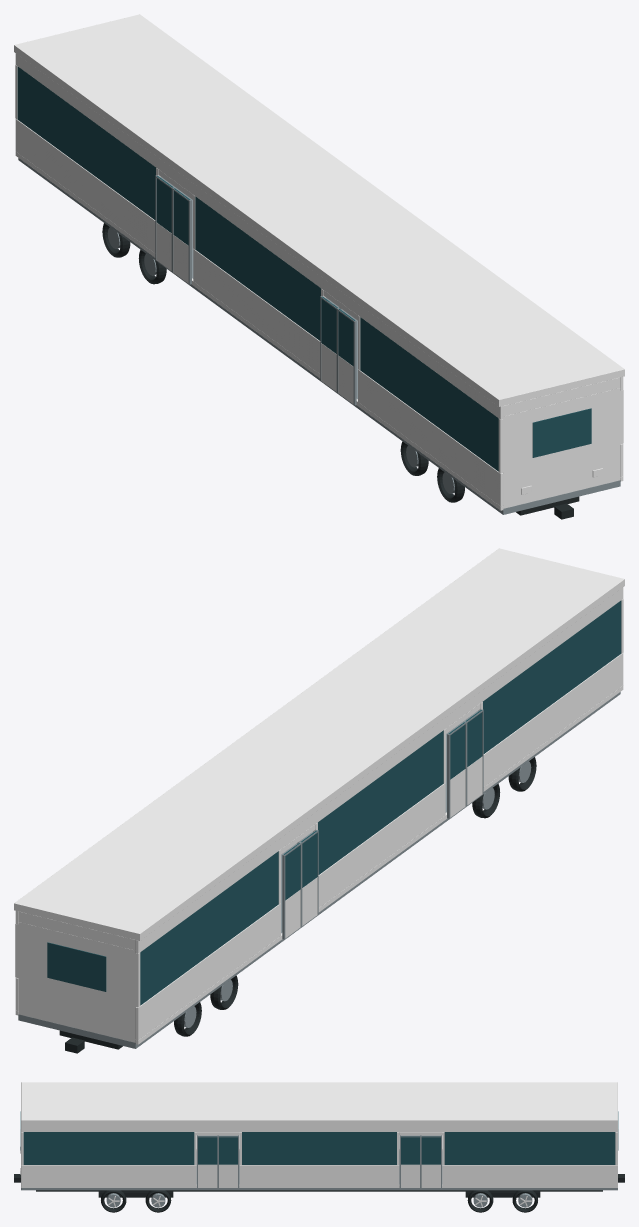
Rendered from mrt-train-carriage.glb.
3 views of the same model, one above another, from view 1: azimuth 30°, elevation 25°; view 2: azimuth 150°, elevation 25°; view 3: azimuth 270°, elevation 25° (orthographic). The views are drawn at different scales.
Visible parts, largest first — view 1: Roof, End_Wall, Window_Band, Window_Band.002, Window_Band.001, Upper_Side_Rail, Lower_Wall, Lower_Wall.002, Lower_Wall.001, Carriage_Floor, End_Window, Lower_Side_Rail (+5 smaller); view 2: Roof, End_Wall.001, Window_Band.002, Window_Band, Window_Band.001, Upper_Side_Rail, Lower_Wall.002, Lower_Wall, Lower_Wall.001, Carriage_Floor, End_Window.001, Lower_Side_Rail (+5 smaller); view 3: Roof, Window_Band.003, Window_Band.005, Window_Band.004, Upper_Side_Rail.001, Lower_Wall.003, Lower_Wall.005, Lower_Wall.004, Carriage_Floor, Lower_Side_Rail.001, Centre_Underframe, Door_Pane_RightFront (+13 smaller).
Boxes of the visible parts, x1=… form: Roof: x1=14, y1=14, x2=624, y2=406; End_Wall: x1=503, y1=388, x2=620, y2=508; Window_Band: x1=360, y1=317, x2=498, y2=471; Window_Band.002: x1=17, y1=66, x2=155, y2=219; Window_Band.001: x1=195, y1=196, x2=320, y2=340; Upper_Side_Rail: x1=15, y1=53, x2=503, y2=419; Lower_Wall: x1=358, y1=369, x2=503, y2=506; Lower_Wall.002: x1=15, y1=119, x2=155, y2=253; Lower_Wall.001: x1=193, y1=249, x2=320, y2=373; Carriage_Floor: x1=18, y1=158, x2=620, y2=514; End_Window: x1=532, y1=408, x2=591, y2=457; Lower_Side_Rail: x1=15, y1=152, x2=503, y2=510; Roof: x1=14, y1=548, x2=624, y2=940; End_Wall.001: x1=18, y1=922, x2=135, y2=1042; Window_Band.002: x1=140, y1=851, x2=278, y2=1005; Window_Band: x1=483, y1=600, x2=621, y2=753; Window_Band.001: x1=318, y1=730, x2=443, y2=874; Upper_Side_Rail: x1=135, y1=587, x2=623, y2=953; Lower_Wall.002: x1=135, y1=903, x2=280, y2=1040; Lower_Wall: x1=483, y1=653, x2=623, y2=787; Lower_Wall.001: x1=318, y1=783, x2=445, y2=907; Carriage_Floor: x1=18, y1=692, x2=620, y2=1048; End_Window.001: x1=47, y1=942, x2=106, y2=991; Lower_Side_Rail: x1=135, y1=686, x2=623, y2=1044; Roof: x1=21, y1=1082, x2=617, y2=1124; Window_Band.003: x1=23, y1=1132, x2=194, y2=1164; Window_Band.005: x1=444, y1=1132, x2=615, y2=1164; Window_Band.004: x1=242, y1=1132, x2=396, y2=1164; Upper_Side_Rail.001: x1=21, y1=1124, x2=617, y2=1131; Lower_Wall.003: x1=21, y1=1165, x2=196, y2=1185; Lower_Wall.005: x1=442, y1=1165, x2=617, y2=1185; Lower_Wall.004: x1=239, y1=1165, x2=399, y2=1185; Carriage_Floor: x1=21, y1=1151, x2=617, y2=1190; Lower_Side_Rail.001: x1=21, y1=1185, x2=617, y2=1187; Centre_Underframe: x1=36, y1=1190, x2=602, y2=1191; Door_Pane_RightFront: x1=198, y1=1136, x2=217, y2=1164.
Bounding box in the file's own units: 3.07 × 3.7 × 20.48.
